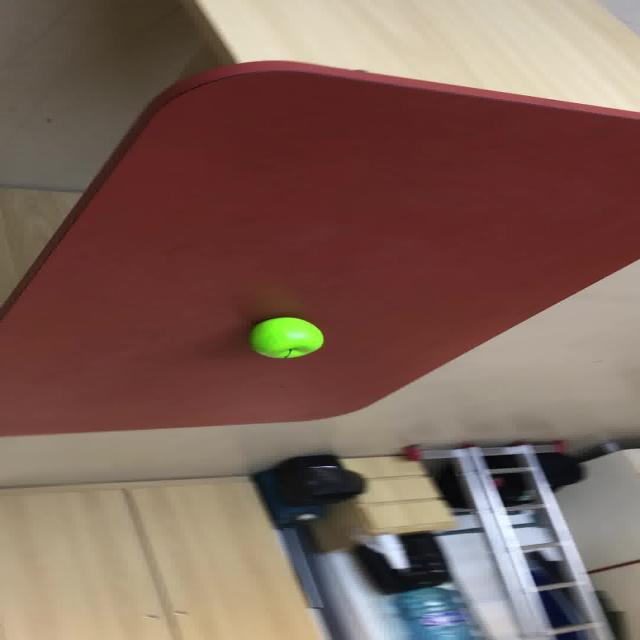apple: (247, 316, 324, 359)
